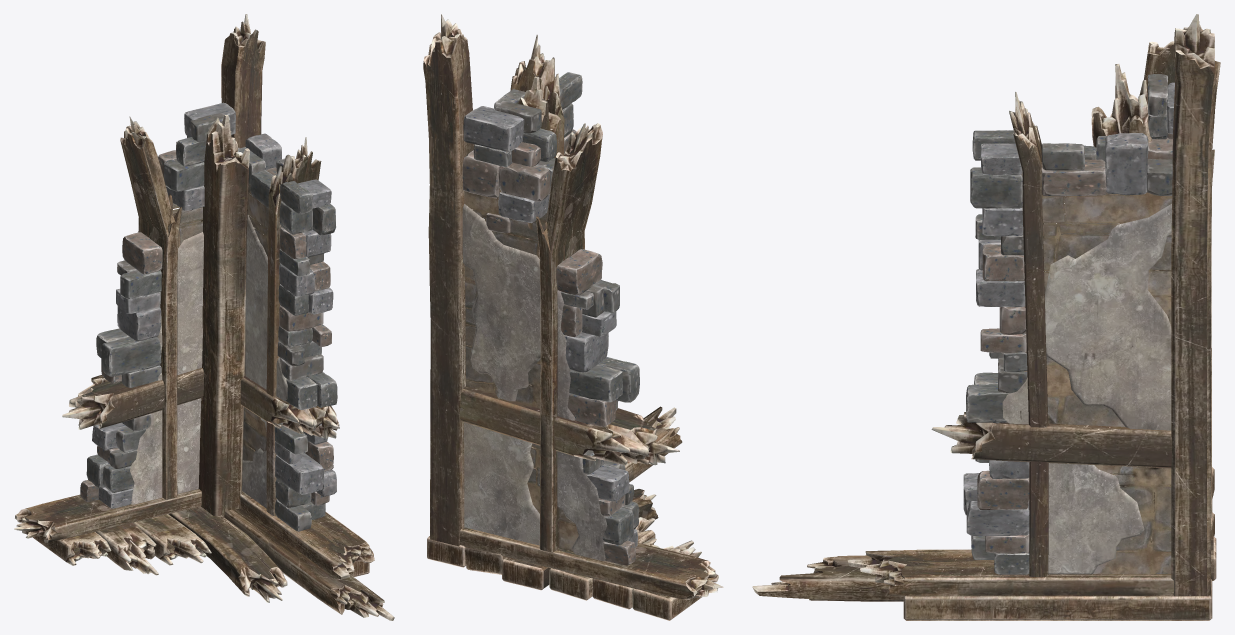
The picture shows the model from 3 angles, left to right: view 1: azimuth 30°, elevation 25°; view 2: azimuth 150°, elevation 25°; view 3: azimuth 270°, elevation 25°; orthographic projection. The views are drawn at different scales.
Parts seen in each view (by area): view 1: SM_House_Corner_Dmg_01_LOD0; view 2: SM_House_Corner_Dmg_01_LOD0; view 3: SM_House_Corner_Dmg_01_LOD0.
Boxes of the visible parts, x1,y1,x2,y2 form: SM_House_Corner_Dmg_01_LOD0: (14, 14, 394, 620); SM_House_Corner_Dmg_01_LOD0: (423, 14, 723, 620); SM_House_Corner_Dmg_01_LOD0: (752, 14, 1220, 620).
Bounding box in the file's own units: 1.83 × 3.41 × 2.32.
Materials: 4 (4 with a texture image).
